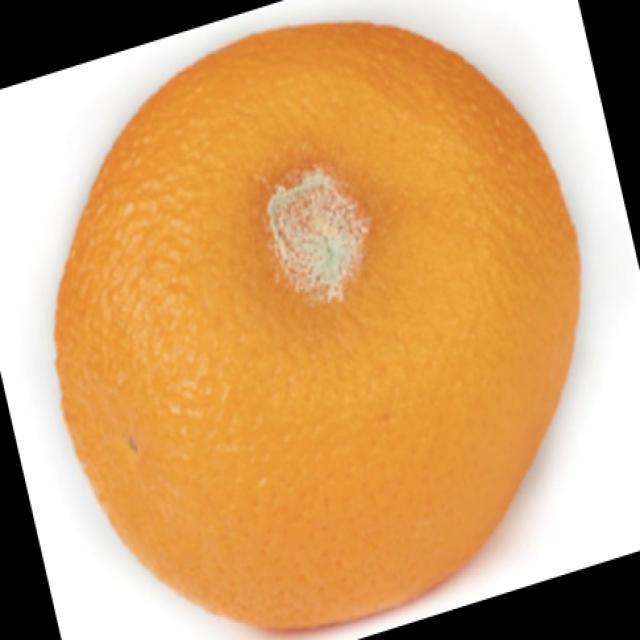sedikit-busuk: (268, 167, 367, 299)
